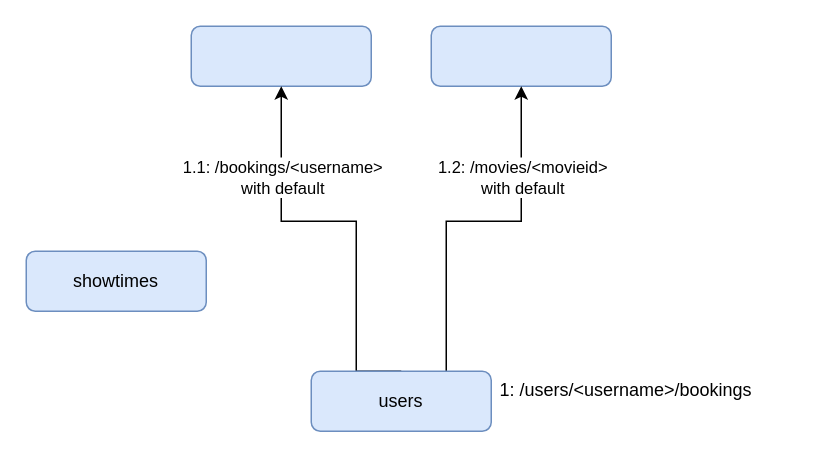
This 833x458 diagram has some shape labels left out. Here are the shapes that lost their labels. From the top down, the centre of each, then its label:
At (280,55): "bookings".
At (520,55): "movies".
